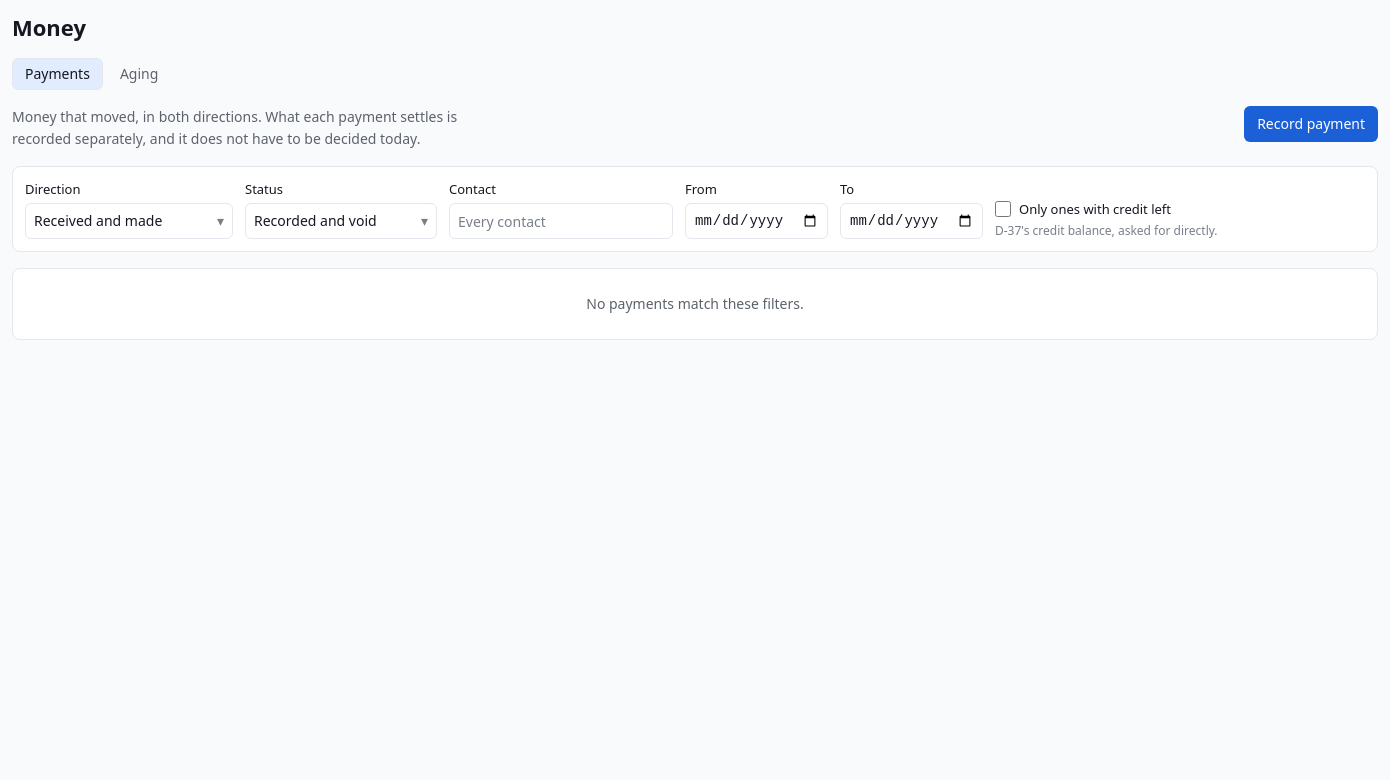
MoneyInScreen — aging › shows unapplied credit as a negative row of its own, last, and never netted
Click the button "Aging".
click(139, 74)  # box 107,58 -> 171,90
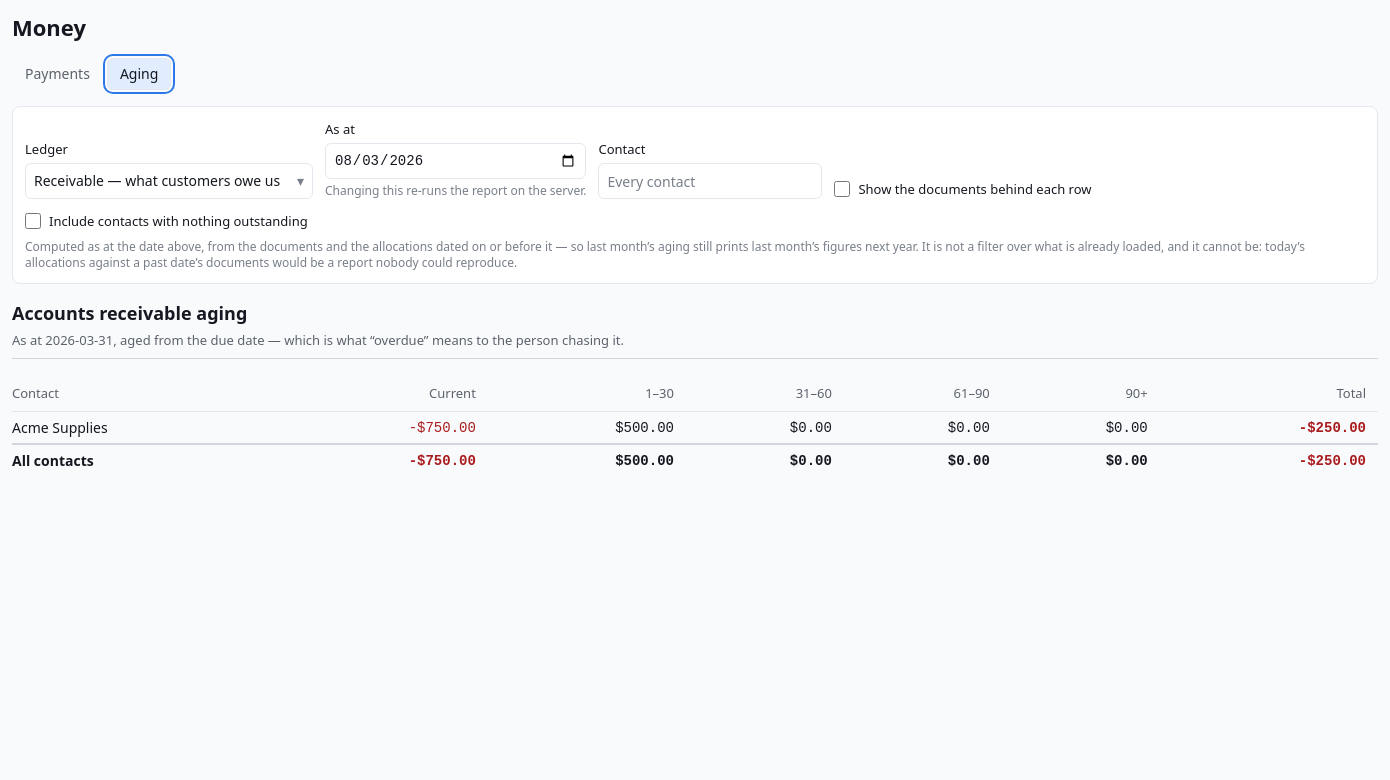
Click the checkbox labelled "Show the documents behind each row".
click(842, 189)  # box 834,181 -> 850,197
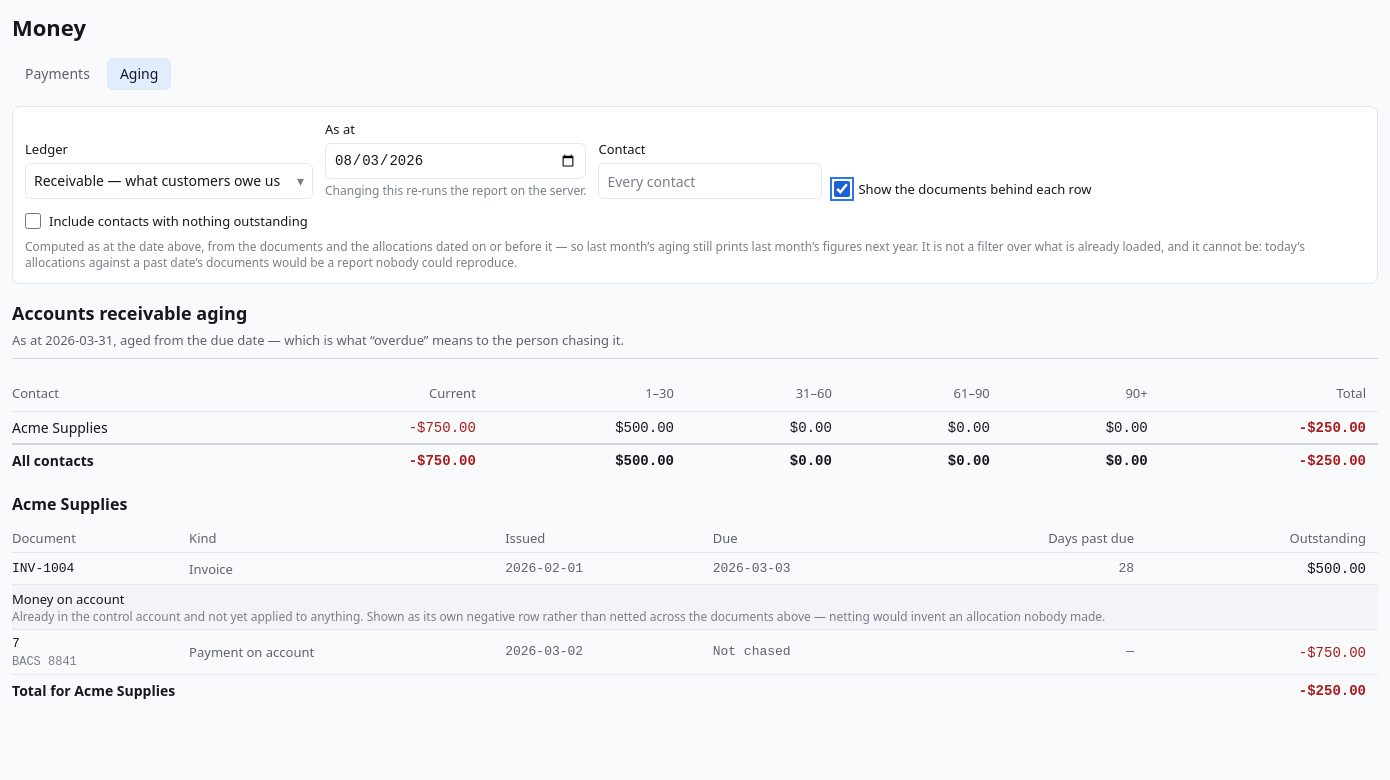
Now the row that starts with "BACS 8841" shows "-$750.00", box 1299,644 -> 1366,660
Now the row "INV-1004 Invoice 2026-02-01 2026-03-03 28 $500.00" is shown, box 12,553 -> 1378,584
Now the row that starts with "BACS 8841" shows "Not chased", box 713,644 -> 791,659
